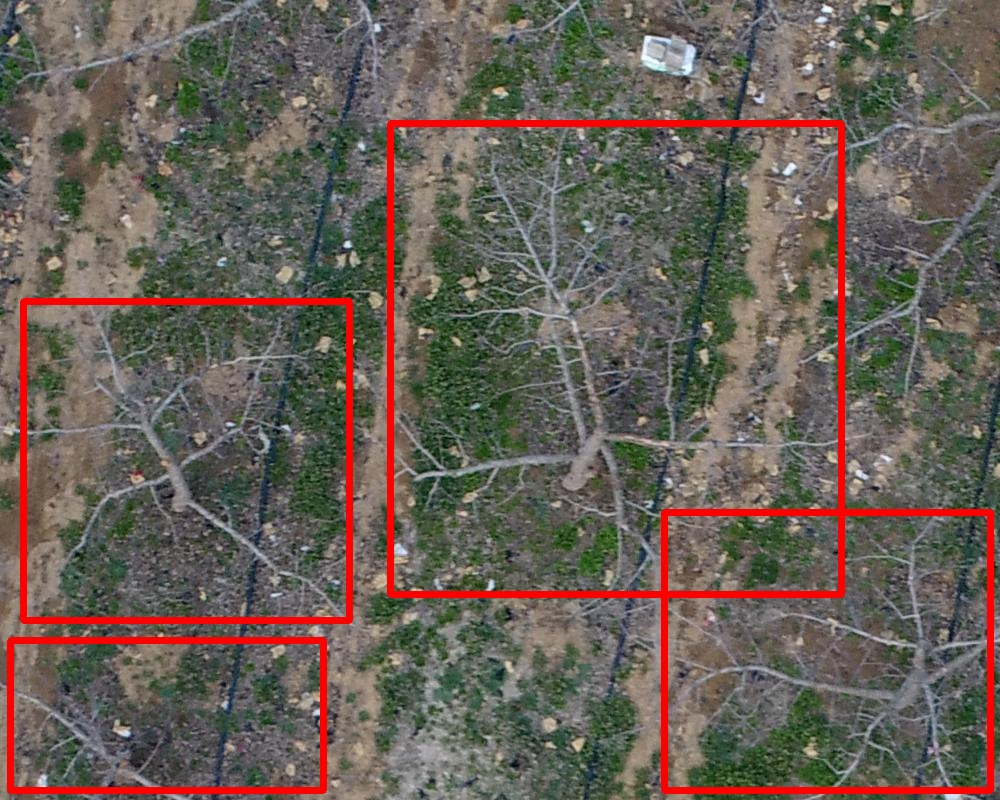apple: (390, 123, 841, 594), (23, 301, 349, 620), (664, 512, 990, 790), (10, 640, 323, 790)
